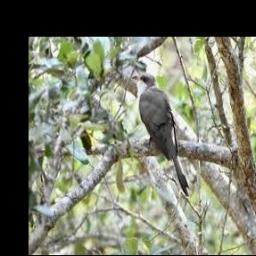Cuckoo: (133, 73, 189, 196)
